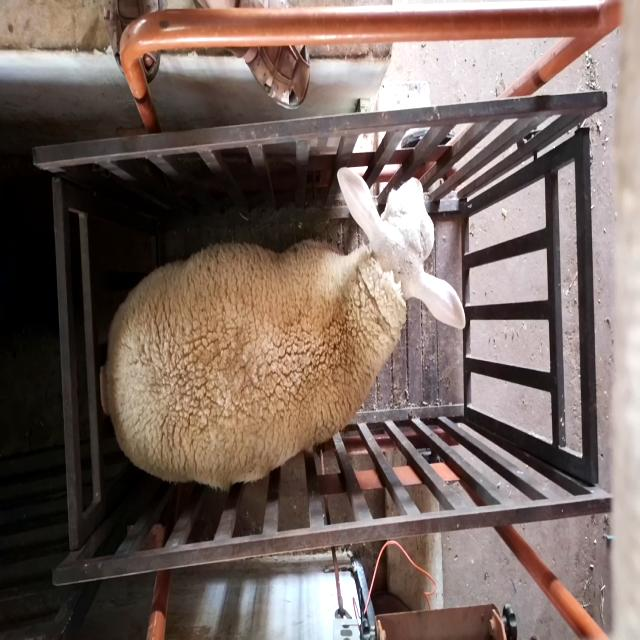sheep: (98, 166, 467, 493)
